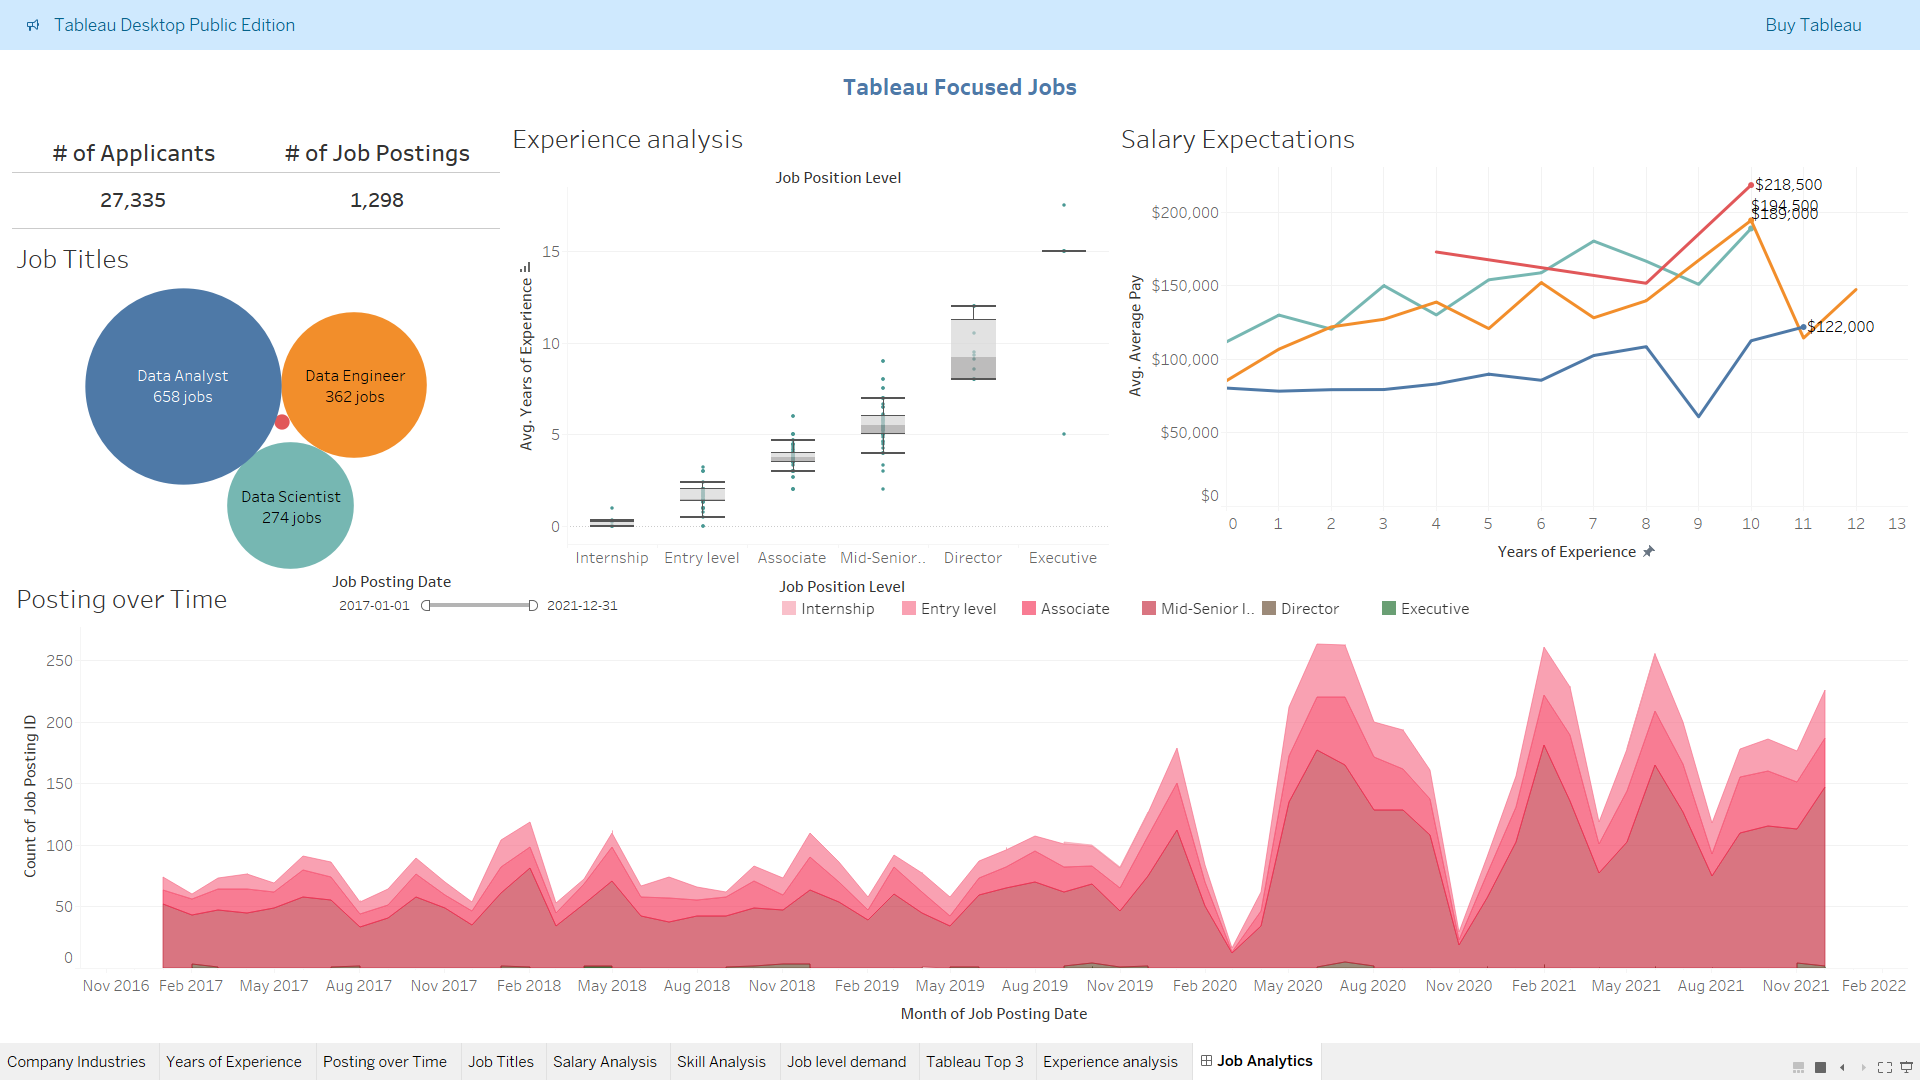

This screenshot's page, from the dashboard's own definition file:
{"tool":"tableau","page":{"name":"Job Analytics","canvas":[1000,1000],"units":"permille","ordinal":0},"visuals":[{"type":"text","box":[5,10,990,54.9]},{"type":"worksheet","title":"Skill Analysis","mark":"Automatic","box":[5,64.8,257.9,121.1]},{"type":"worksheet","title":"Experience analysis","mark":"Circle","rows":["Years of Experience"],"cols":["Job Position Level"],"box":[262.8,64.8,316.9,461.9]},{"type":"worksheet","title":"Salary Analysis","mark":"Automatic","rows":["Calculation_2239696400520544256"],"cols":["Years of Experience"],"box":[579.7,64.8,415.3,461.9]},{"type":"worksheet","title":"Job Titles","mark":"Circle","box":[5,185.9,257.9,340.8]},{"type":"filter","title":"Posting over Time","param":"[federated.04gism312touyv16xrplo1gvq1bi].[none:Job Posting Date:qk]","box":[172.8,524.3,153.5,77.4]},{"type":"worksheet","title":"Posting over Time","mark":"Area","rows":["Job Posting ID"],"cols":["Job Posting Date"],"box":[5,526.8,990,463.2]},{"type":"legend","title":"Posting over Time","param":"[federated.04gism312touyv16xrplo1gvq1bi].[none:Job Position Level:nk]","box":[405.6,529.3,499.1,59.9]}]}

Visuals, with their boxes on the dashboard's canvas, which has no fixed pixel size, in thousandths of its width and height (x1, y1, x2, y2). These are canvas units, not pixel positions in the 1920x1080 screenshot, which may show the page scaled, cropped or inside an application window:
text: [left=5, top=10, right=995, bottom=65]
"Skill Analysis" worksheet: [left=5, top=65, right=263, bottom=186]
"Experience analysis" worksheet (Circle marks): [left=263, top=65, right=580, bottom=527]
"Salary Analysis" worksheet: [left=580, top=65, right=995, bottom=527]
"Job Titles" worksheet (Circle marks): [left=5, top=186, right=263, bottom=527]
"Posting over Time" filter: [left=173, top=524, right=326, bottom=602]
"Posting over Time" worksheet (Area marks): [left=5, top=527, right=995, bottom=990]
"Posting over Time" legend: [left=406, top=529, right=905, bottom=589]
